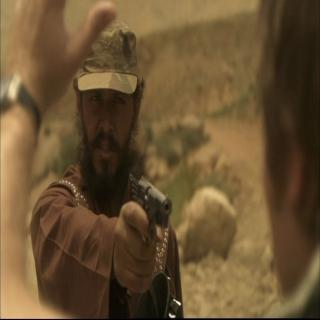gun: (125, 168, 172, 266)
